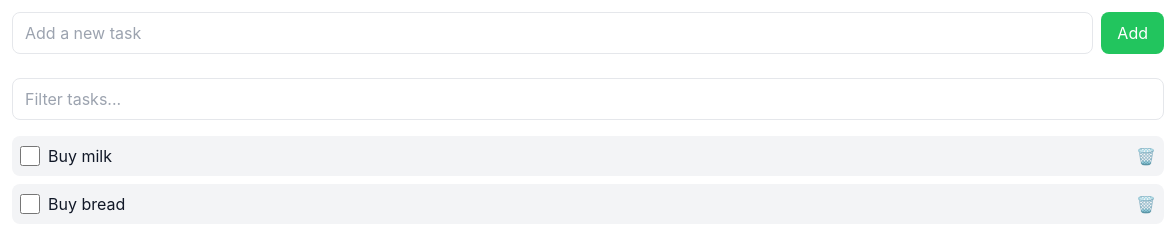
Test case: TodoWidget › filters tasks
Type "milk" into the field labelled "Filter tasks" at [588, 99], box [12,78,1164,120]
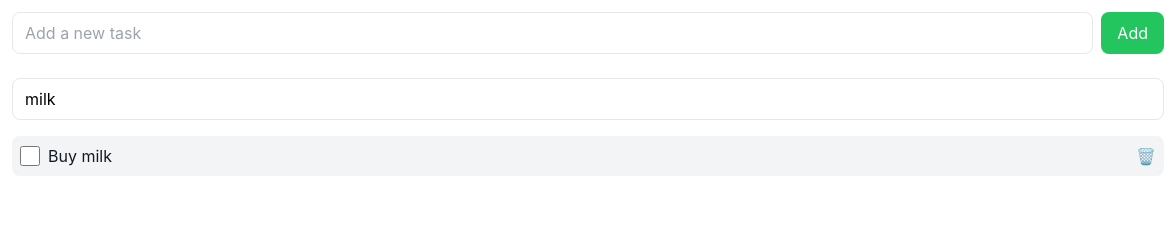
Expected: the text "Buy milk" is shown, [48,146,112,166]
Expected: the text "Buy bread" is gone
